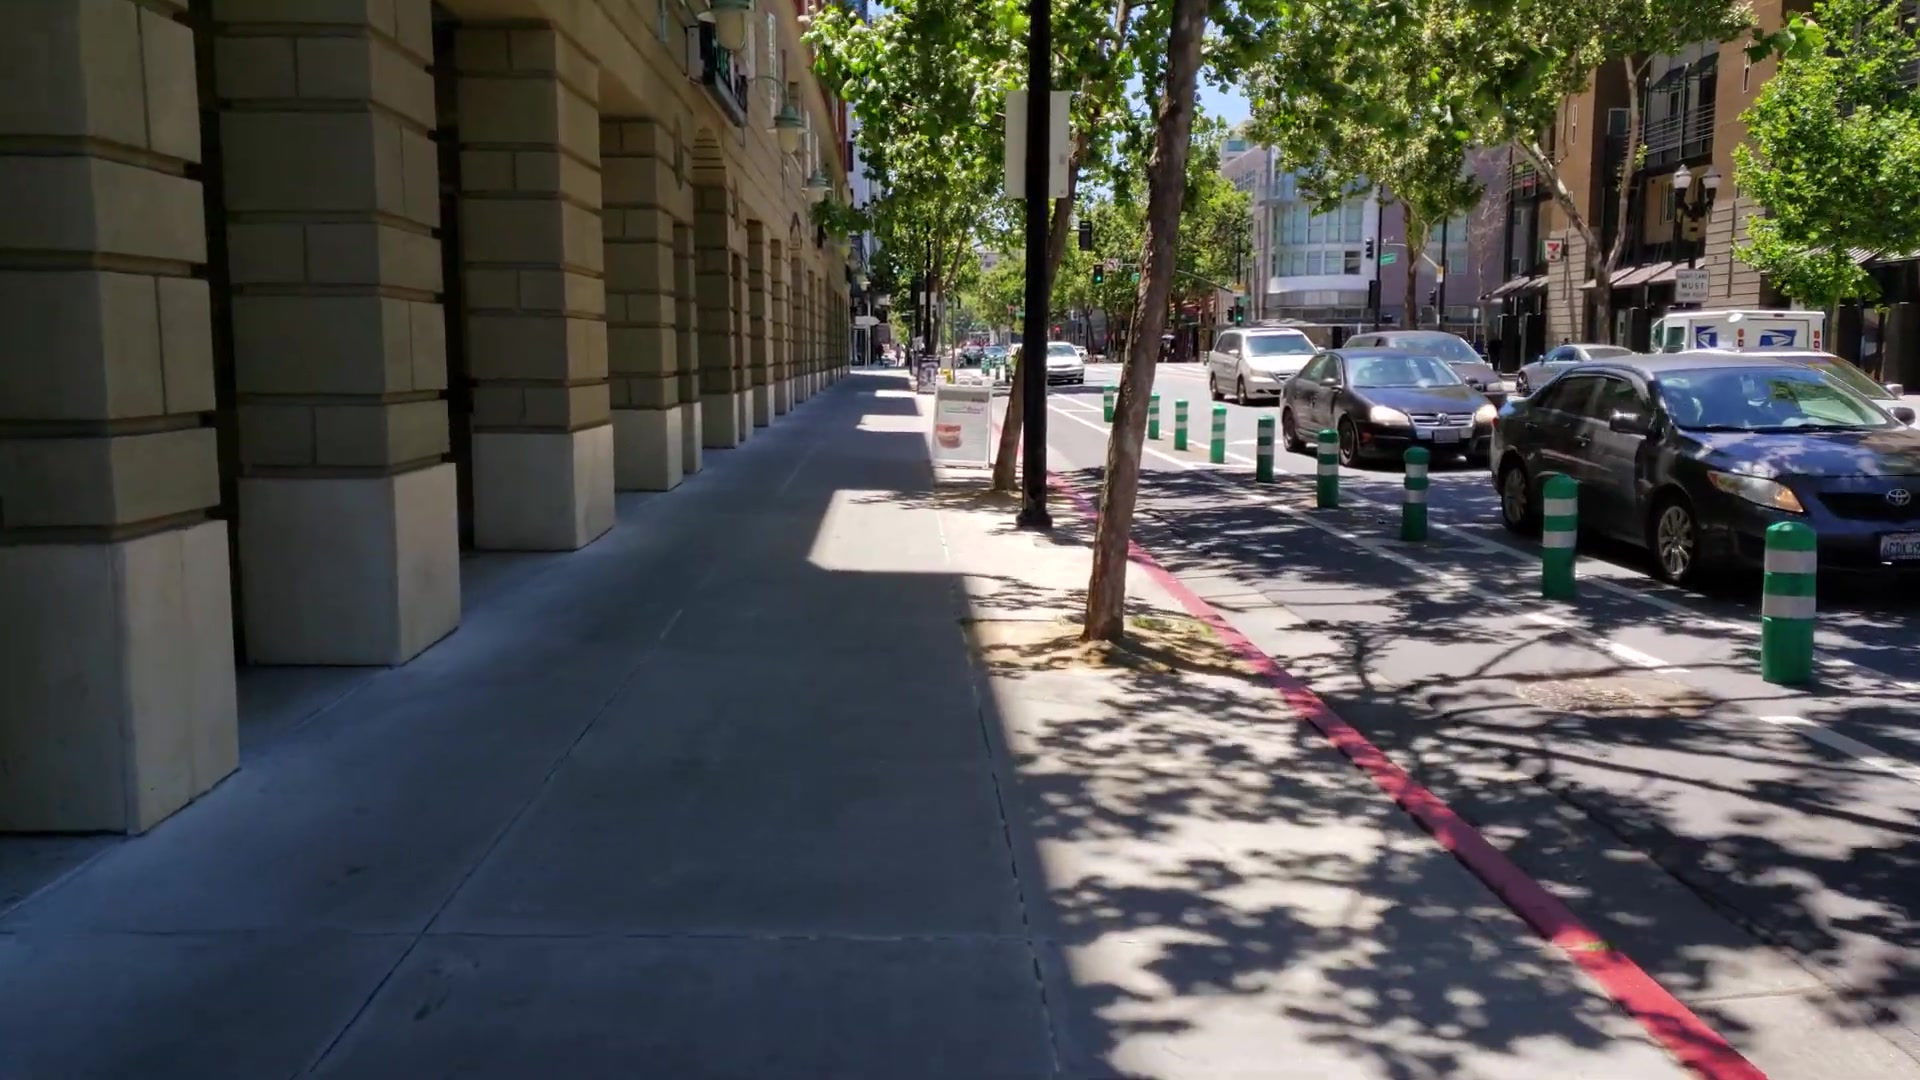vehicle: (1491, 356, 1920, 607), (1280, 347, 1493, 479), (1211, 328, 1312, 404)
